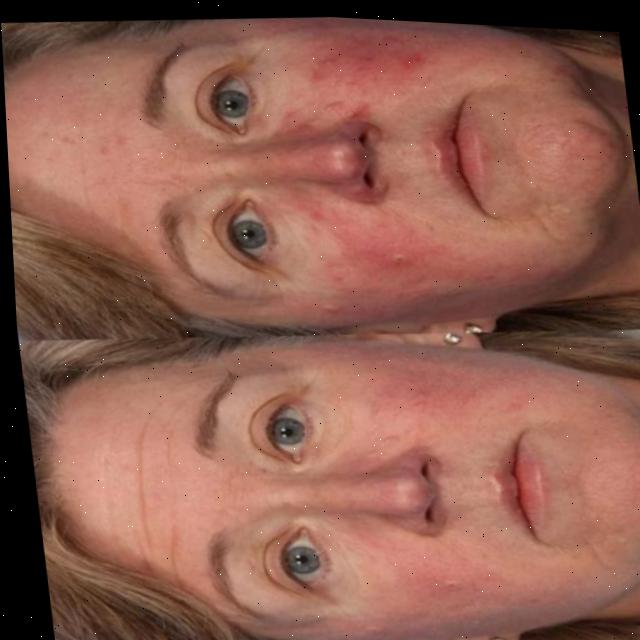Rosacea: (289, 178, 434, 300), (303, 27, 434, 111)
